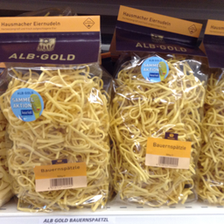pasta: (1, 15, 113, 212), (110, 4, 207, 209)
